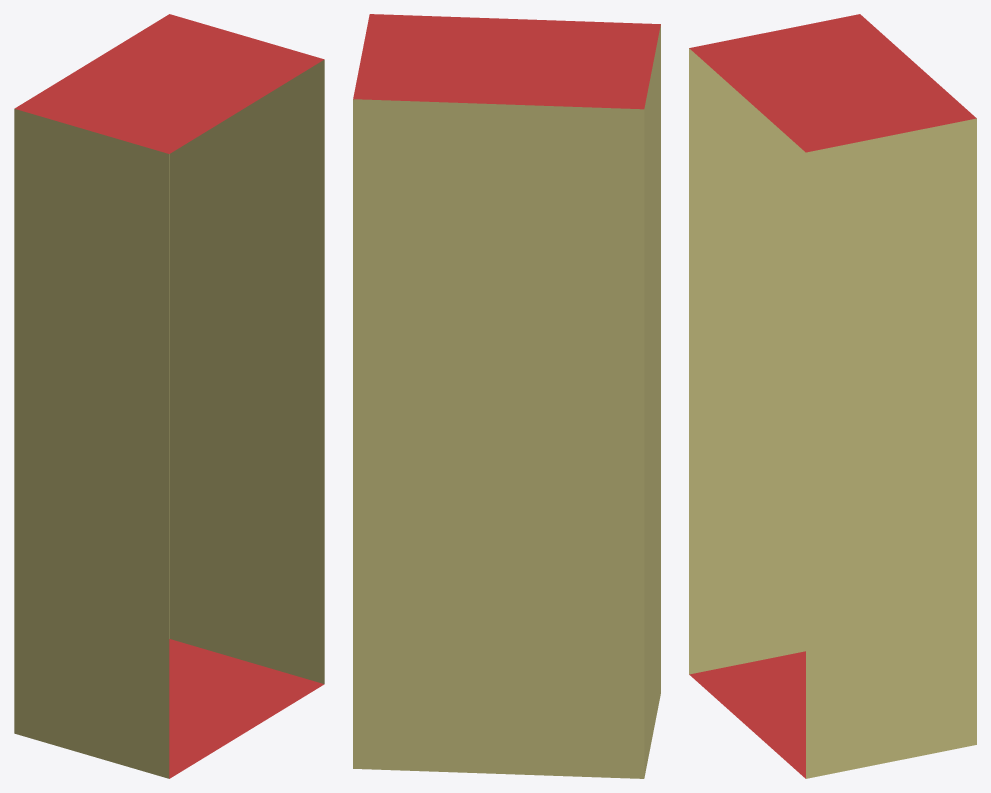
3 views of the same model, side by side, from view 1: azimuth 30°, elevation 25°; view 2: azimuth 150°, elevation 25°; view 3: azimuth 270°, elevation 25° (orthographic). The views are drawn at different scales.
Bounding box in the file's own units: 4.22 × 3.71 × 8.9.
